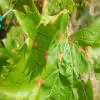grape leaf black rot: (0, 4, 100, 99)
